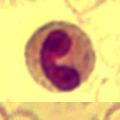monocyte: (23, 20, 98, 93)
